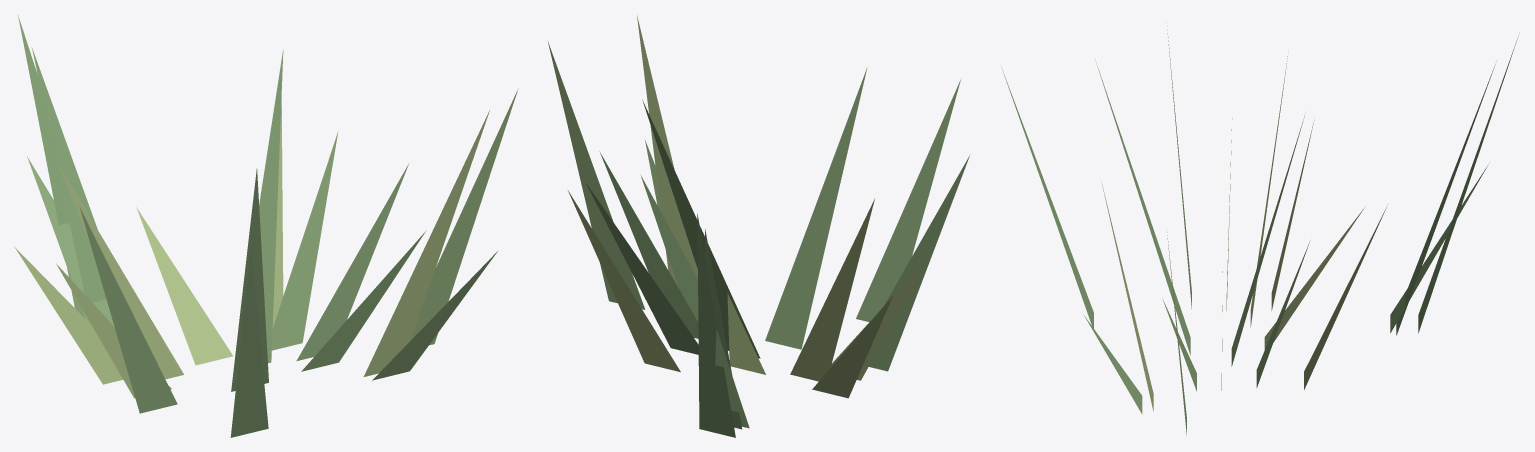
File: grass-clump.glb
3 renders of one model, left to right at view 1: azimuth 30°, elevation 25°; view 2: azimuth 150°, elevation 25°; view 3: azimuth 270°, elevation 25°, orthographic. The views are drawn at different scales.
Parts seen in each view (by area): view 1: grass-clump; view 2: grass-clump; view 3: grass-clump.
Part boxes in pixels (bbox=[...]): grass-clump: bbox=[14, 15, 518, 437]; grass-clump: bbox=[548, 15, 970, 437]; grass-clump: bbox=[1001, 22, 1518, 435].
Bounding box in the file's own units: 0.3 × 0.18 × 0.3.
